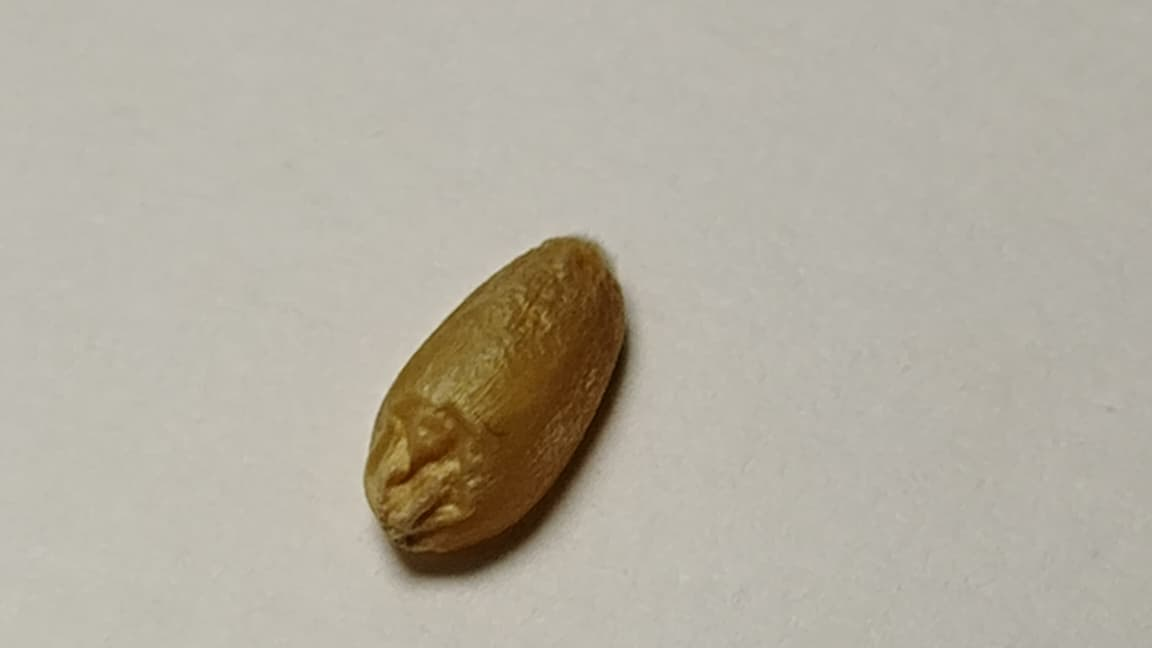healthy: (364, 237, 624, 551)
